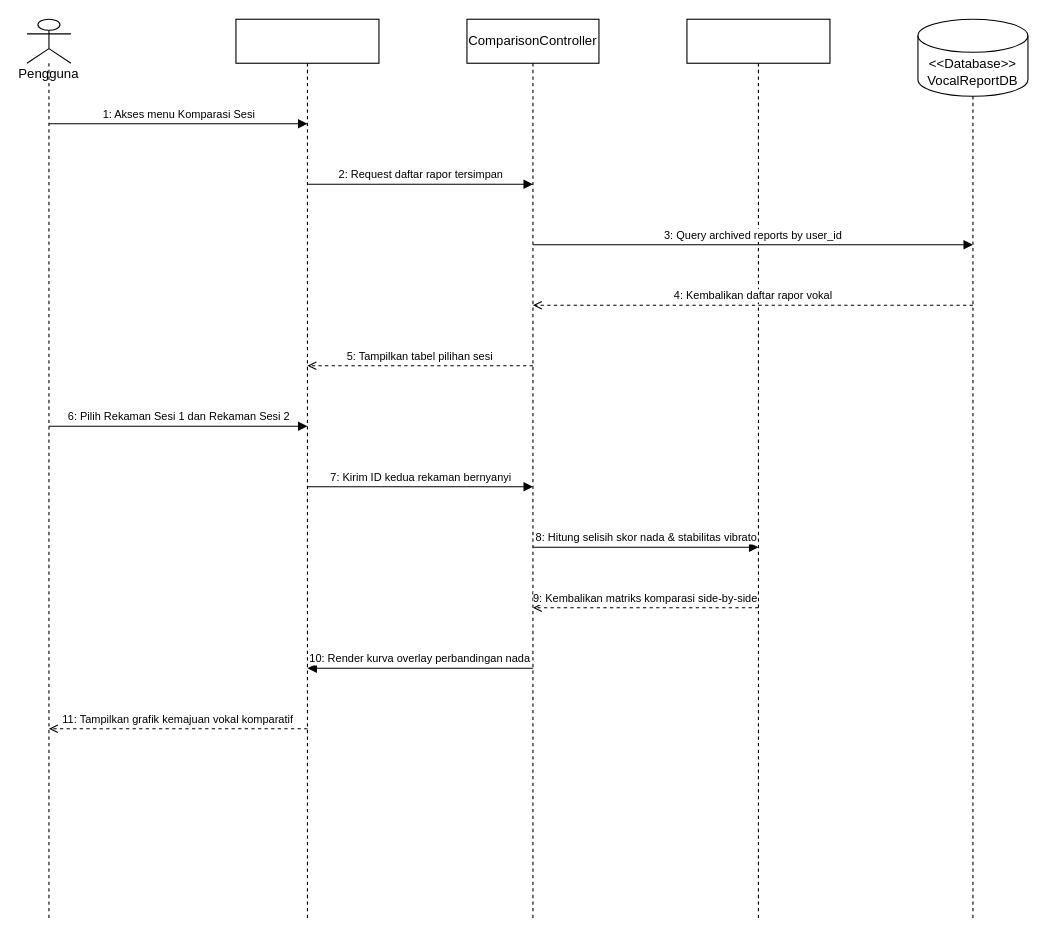
This 1047x942 diagram has some shape labels left out. Here are the shapes that lost their labels. From the top down, the box of each, then its label:
(235, 18, 379, 921): Tampilan Komparasi Sesi
(686, 18, 830, 921): ComparisonService
